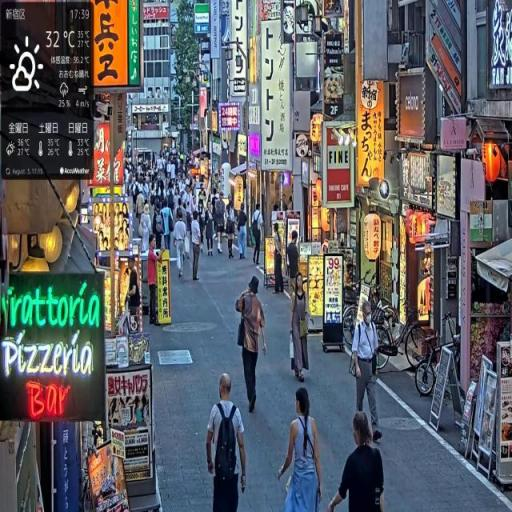person: (327, 410, 385, 512), (277, 385, 323, 512), (206, 374, 248, 512), (352, 297, 385, 449), (236, 276, 269, 416), (290, 274, 311, 386), (146, 237, 163, 328), (174, 211, 190, 278), (191, 212, 204, 283), (252, 201, 264, 268), (162, 200, 175, 255), (237, 203, 249, 261), (205, 205, 216, 258)
